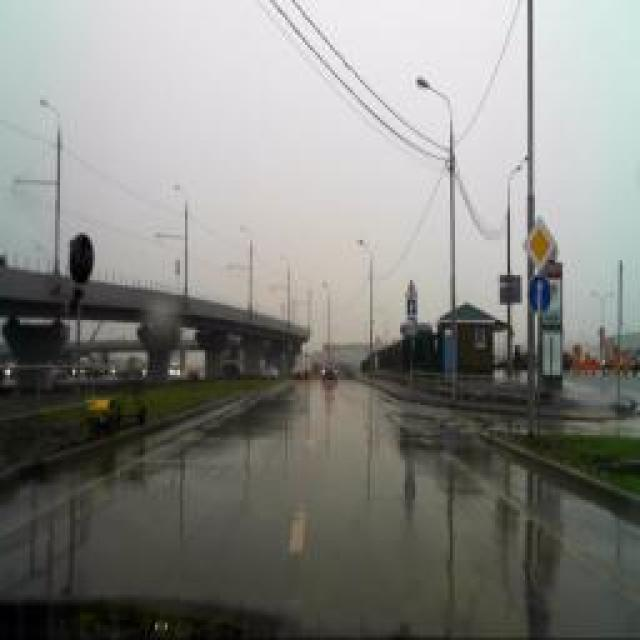sign: (529, 274, 551, 316)
